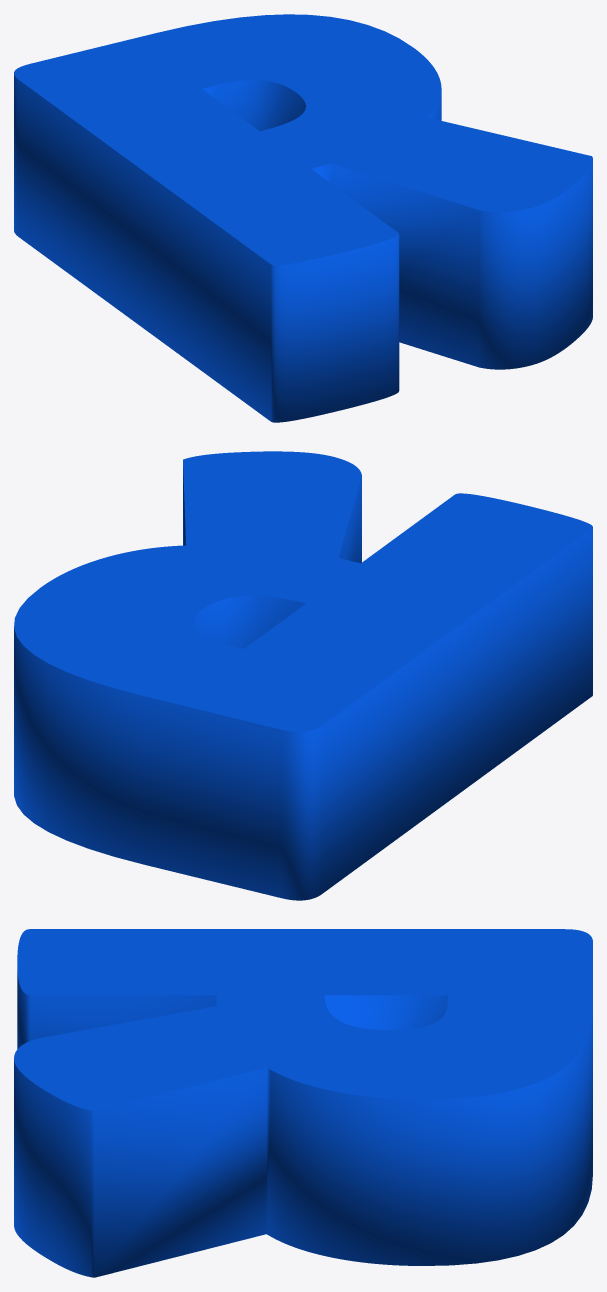
3 views of the same model, one above another, from view 1: azimuth 30°, elevation 25°; view 2: azimuth 150°, elevation 25°; view 3: azimuth 270°, elevation 25° (orthographic). The views are drawn at different scales.
Parts seen in each view (by area): view 1: r; view 2: r; view 3: r.
Part boxes in pixels (box(x1,y1,x2,y2)): r: box(14, 14, 592, 422); r: box(14, 451, 592, 900); r: box(14, 929, 592, 1277).
Bounding box in the file's own units: 0.2256 × 0.0964 × 0.3034.
